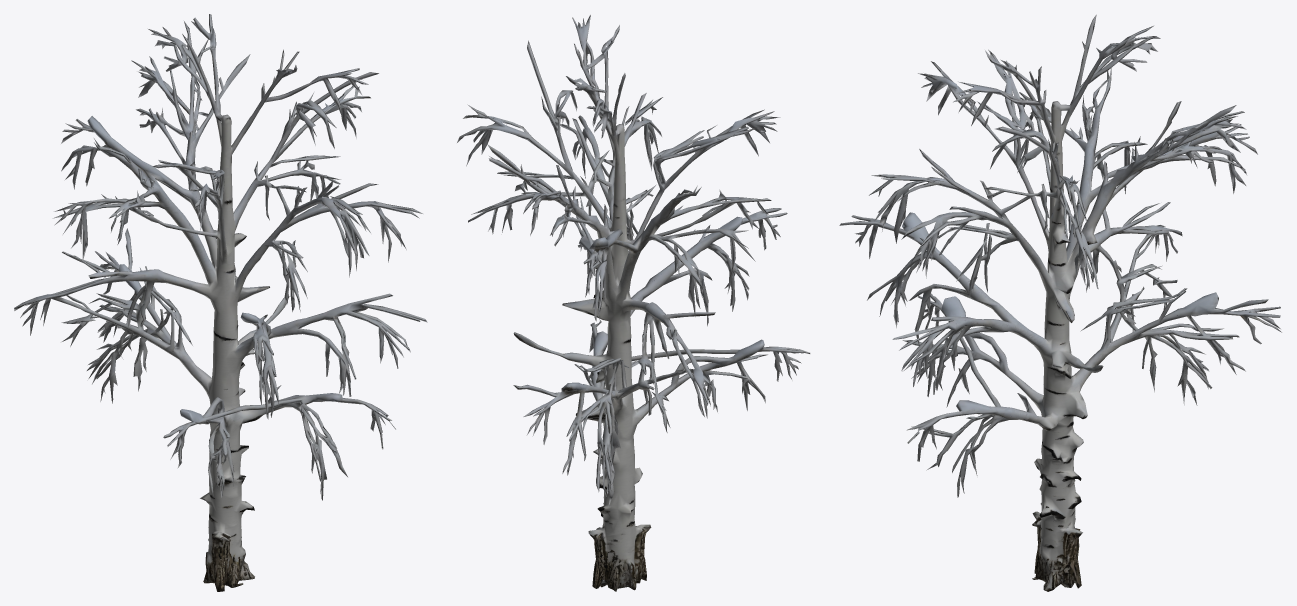
Rendered from tree_birch_bare.glb.
The picture shows the model from 3 angles, left to right: view 1: azimuth 30°, elevation 25°; view 2: azimuth 150°, elevation 25°; view 3: azimuth 270°, elevation 25°; orthographic projection. The views are drawn at different scales.
Bounding box in the file's own units: 0.594 × 1 × 0.724.
Materials: 1 (1 with a texture image).
